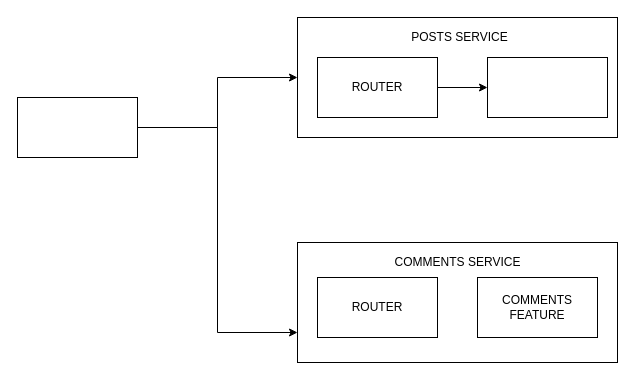
Image size: 635x380. Some labels were removed from this diagram. The shapes that lost their labels are listed below. From the top down, each one's centre as x and y in pixels, then its label:
the point at 547,87: POSTS FEATURE
the point at 77,127: REACT APP
